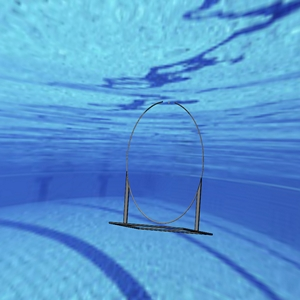circle: (108, 101, 212, 234)
